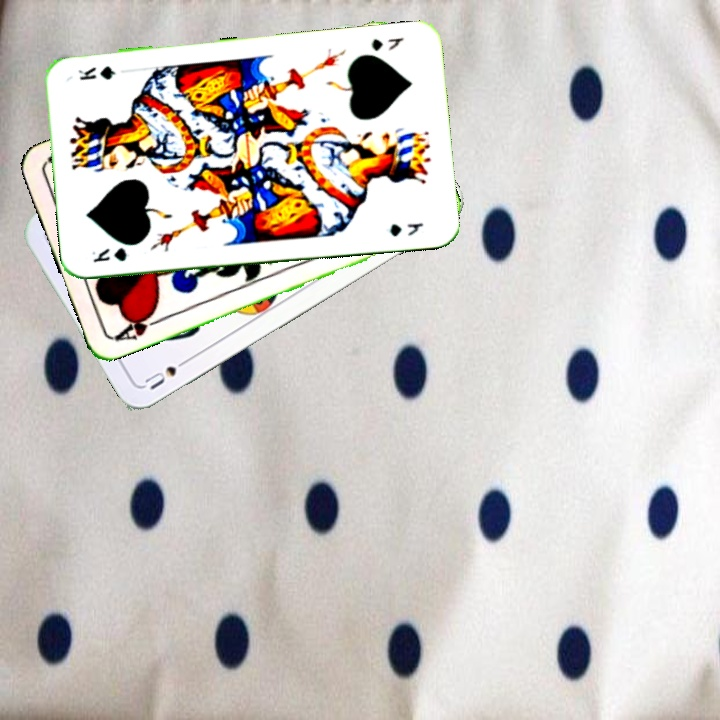GK: (88, 243, 130, 265), (367, 33, 406, 54)
HA: (110, 306, 167, 344)
SU: (140, 353, 194, 393)
